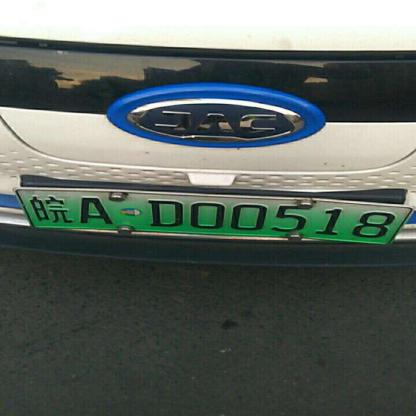lp: (14, 189, 412, 246)
